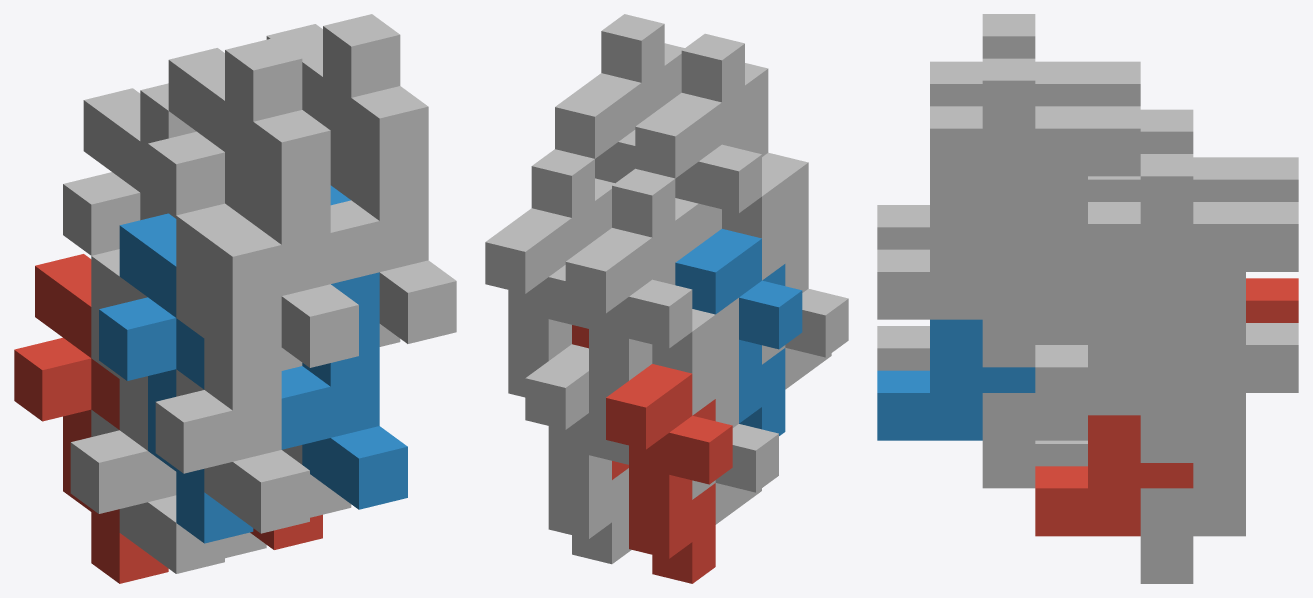
File: tiling.obj
The picture shows the model from 3 angles, left to right: view 1: azimuth 30°, elevation 25°; view 2: azimuth 150°, elevation 25°; view 3: azimuth 270°, elevation 25°; orthographic projection. The views are drawn at different scales.
Parts seen in each view (by area): view 1: copy_2_domain_4, copy_2_domain_8, copy_2_domain_2, copy_2_domain_6, copy_1_domain_2, copy_1_domain_1, copy_2_domain_1, copy_1_domain_4, copy_1_domain_3, copy_1_domain_8, copy_2_domain_3, copy_2_domain_5 (+2 smaller); view 2: copy_1_domain_1, copy_1_domain_5, copy_1_domain_3, copy_1_domain_2, copy_1_domain_7, copy_1_domain_4, copy_2_domain_1, copy_2_domain_2, copy_2_domain_4, copy_1_domain_8, copy_2_domain_3, copy_2_domain_8 (+2 smaller); view 3: copy_2_domain_7, copy_2_domain_8, copy_1_domain_8, copy_1_domain_7, copy_1_domain_5, copy_2_domain_6, copy_2_domain_5, copy_1_domain_6, copy_2_domain_4, copy_1_domain_4, copy_1_domain_3, copy_2_domain_3 (+3 smaller).
Part boxes in pixels (x1,y1,x2,y2): copy_2_domain_4: (204,38,358,367); copy_2_domain_8: (323,14,456,343); copy_2_domain_2: (155,203,309,533); copy_2_domain_6: (281,185,407,509); copy_1_domain_2: (99,213,253,543); copy_1_domain_1: (14,254,168,583); copy_2_domain_1: (70,249,224,573); copy_1_domain_4: (148,48,302,370); copy_1_domain_3: (63,88,168,255); copy_1_domain_8: (266,24,400,346); copy_2_domain_3: (119,83,196,303); copy_2_domain_5: (250,514,322,549); copy_1_domain_1: (606,364,732,583); copy_1_domain_5: (525,344,631,564); copy_1_domain_3: (565,228,692,416); copy_1_domain_2: (675,229,802,435); copy_1_domain_7: (485,208,588,397); copy_1_domain_4: (635,93,761,245); copy_2_domain_1: (652,309,778,524); copy_2_domain_2: (722,174,848,389); copy_2_domain_4: (681,33,808,220); copy_1_domain_8: (555,73,641,183); copy_2_domain_3: (612,168,738,356); copy_2_domain_8: (601,14,684,121); copy_2_domain_7: (1035,154,1193,415); copy_2_domain_8: (877,58,1035,319); copy_1_domain_8: (982,106,1140,367); copy_1_domain_7: (1140,202,1298,462); copy_1_domain_5: (1140,323,1298,583); copy_2_domain_6: (877,319,1035,440); copy_2_domain_5: (1035,415,1193,536); copy_1_domain_6: (982,319,1087,488); copy_2_domain_4: (877,14,1035,249); copy_1_domain_4: (1035,61,1140,106); copy_1_domain_3: (1193,157,1298,201); copy_2_domain_3: (1088,109,1193,201).
Bounding box in the file's own units: 5 × 11 × 8.
